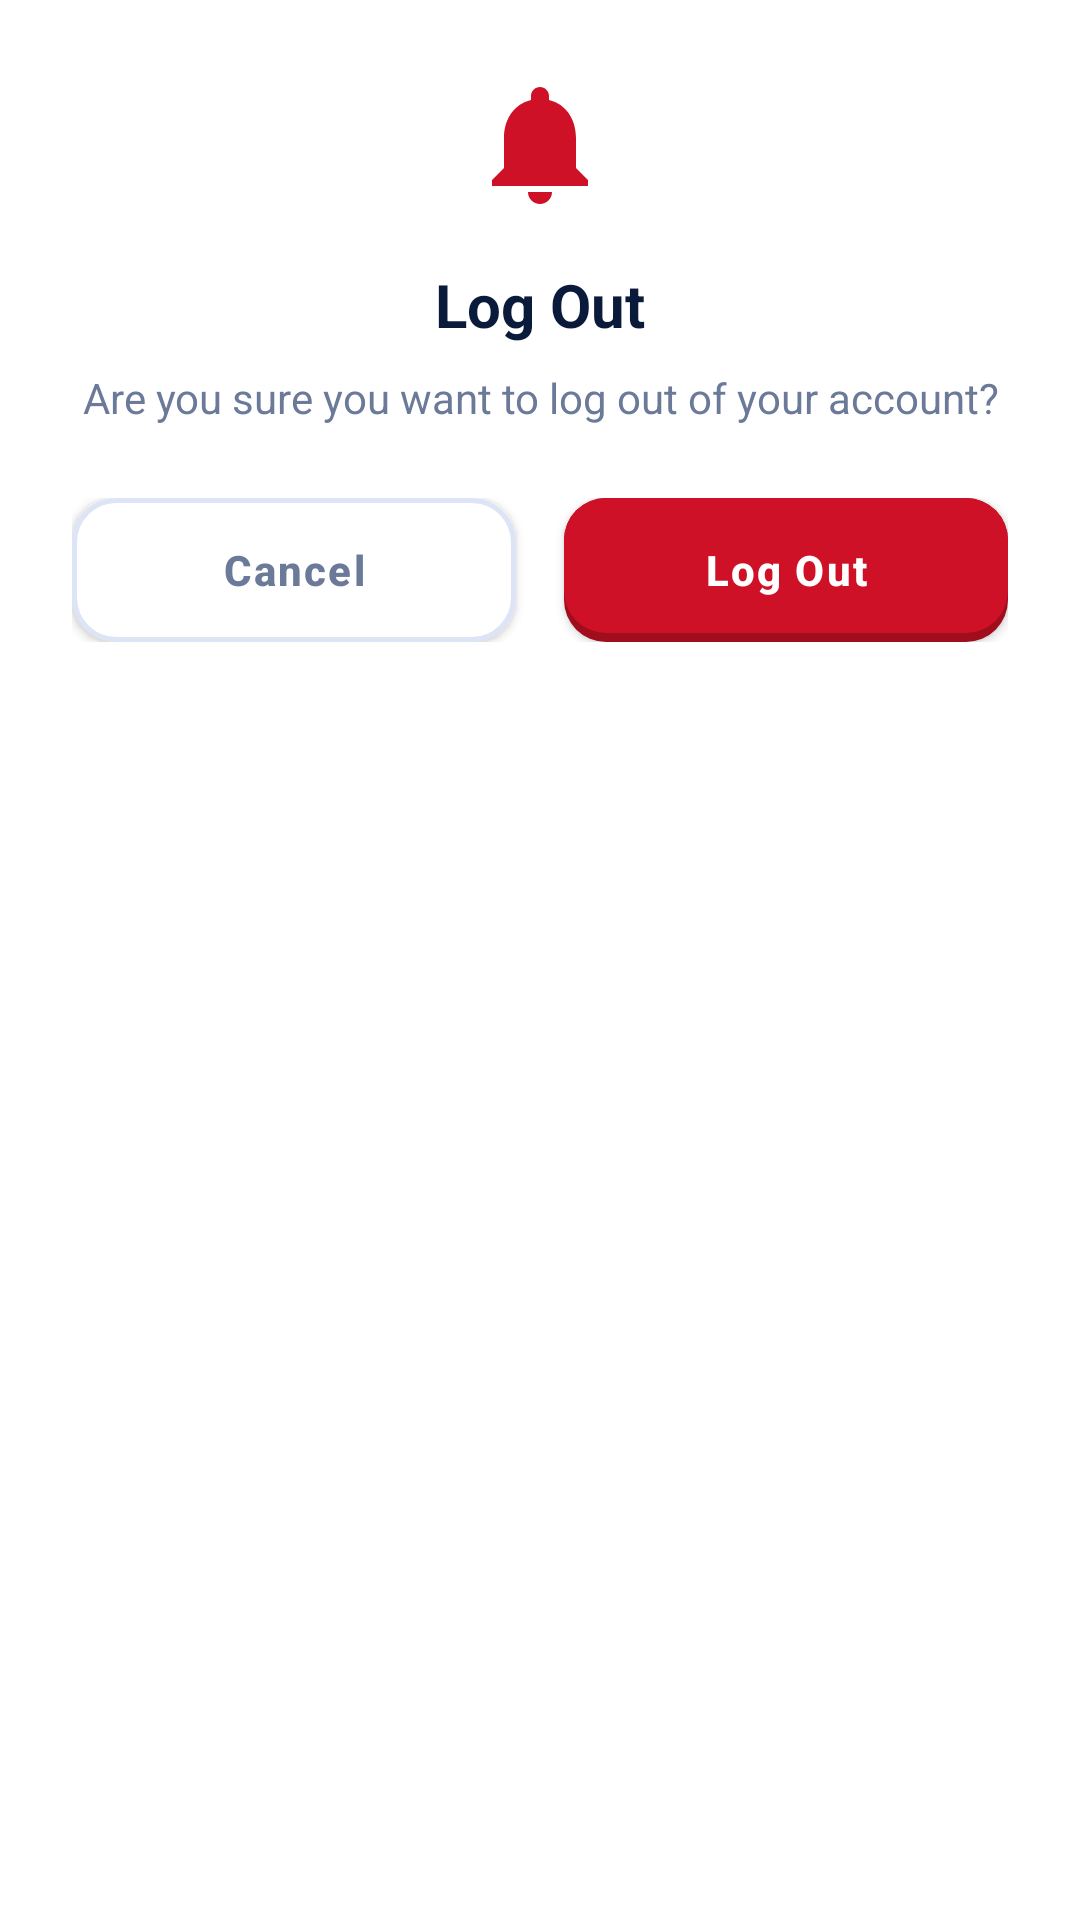

Screen size 1080*1920. Icon name, then its box in pixels as (x1, y1, x2, y2):
notifications: (492, 87, 588, 204)
